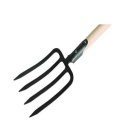Fork: (8, 20, 115, 116)
